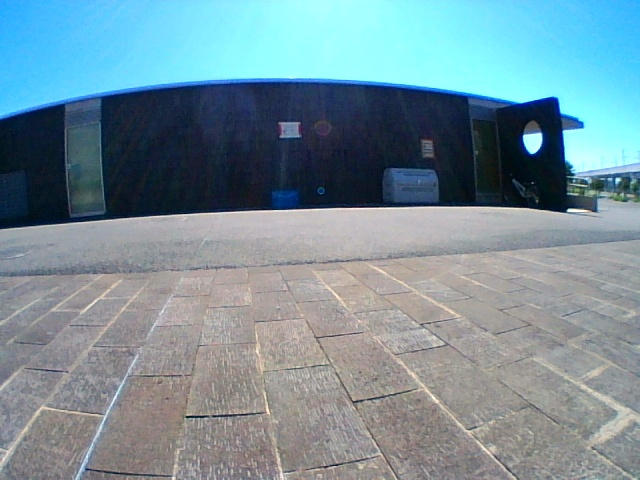blue_box: (273, 190, 297, 207)
